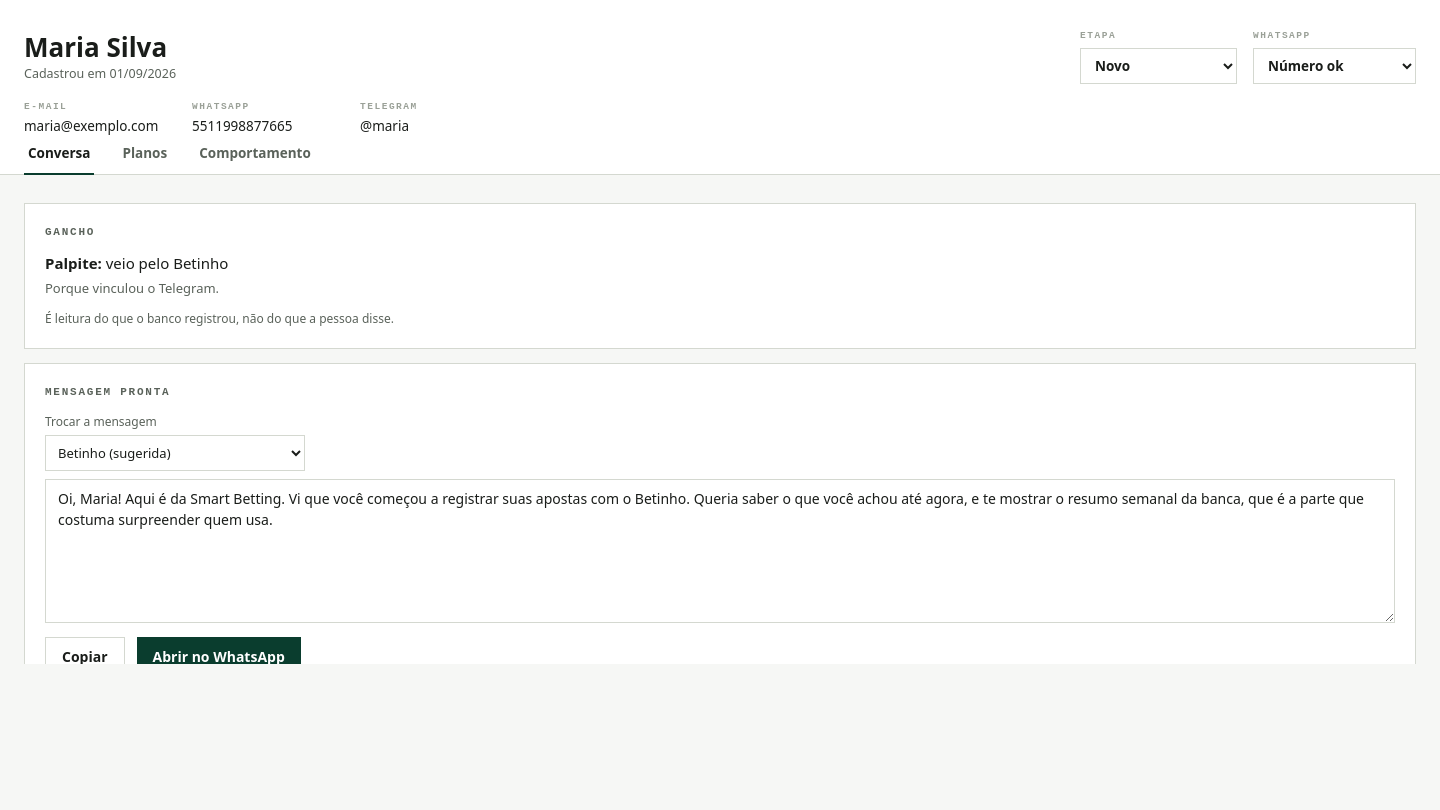
Ficha › plano desconhecido não vira nome inventado: mostra o valor bruto
The image size is (1440, 810).
Note: O plano vive na aba de planos, e a que abre é a da conversa.
Step 1. Click the tab "Planos" → click(145, 156), box [118, 136, 171, 175]
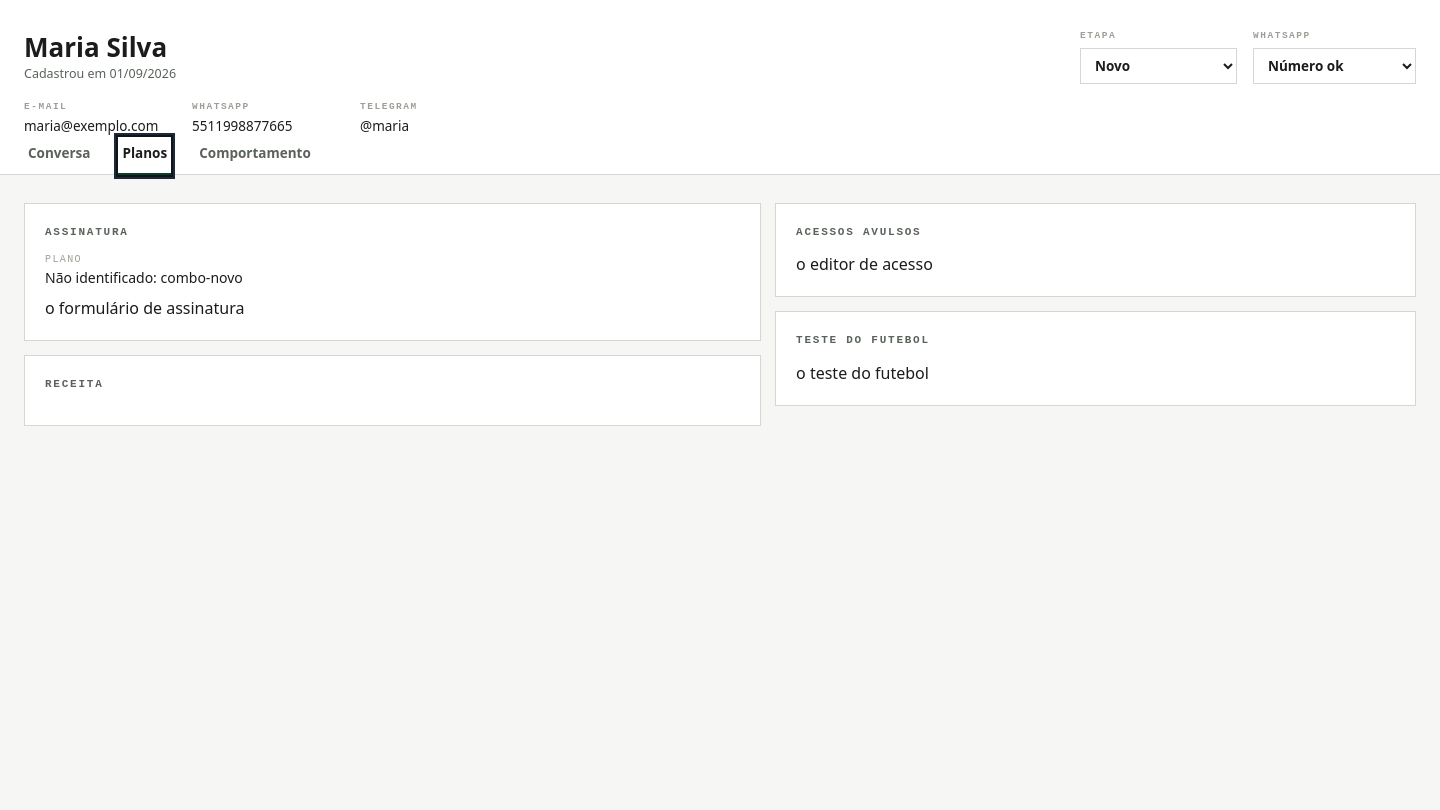
Now the text "Não identificado: combo-novo" is shown, box [45, 268, 243, 287]
